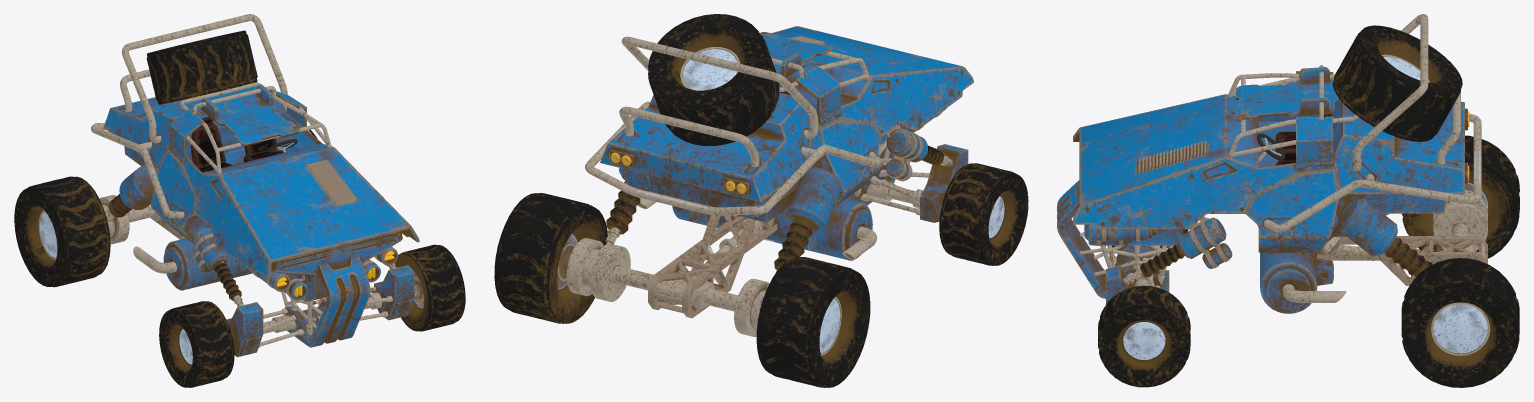
The model's file is raider.glb.
The picture shows the model from 3 angles, left to right: view 1: azimuth 30°, elevation 25°; view 2: azimuth 150°, elevation 25°; view 3: azimuth 270°, elevation 25°; orthographic projection. The views are drawn at different scales.
Parts seen in each view (by area): view 1: D_Rider_Base_mat2_0, D_Rider_Base_mat1_0; view 2: D_Rider_Base_mat2_0, D_Rider_Base_mat1_0; view 3: D_Rider_Base_mat2_0, D_Rider_Base_mat1_0.
Boxes of the visible parts, left/top/right/bottom form: D_Rider_Base_mat2_0: left=14, top=14, right=465, bottom=387; D_Rider_Base_mat1_0: left=103, top=82, right=419, bottom=347; D_Rider_Base_mat2_0: left=494, top=14, right=1028, bottom=387; D_Rider_Base_mat1_0: left=600, top=26, right=973, bottom=222; D_Rider_Base_mat2_0: left=1079, top=14, right=1519, bottom=387; D_Rider_Base_mat1_0: left=1057, top=67, right=1469, bottom=298.
Size of the model in its own units: 1.23 by 1.09 by 1.62.
2 materials, 2 textured.
